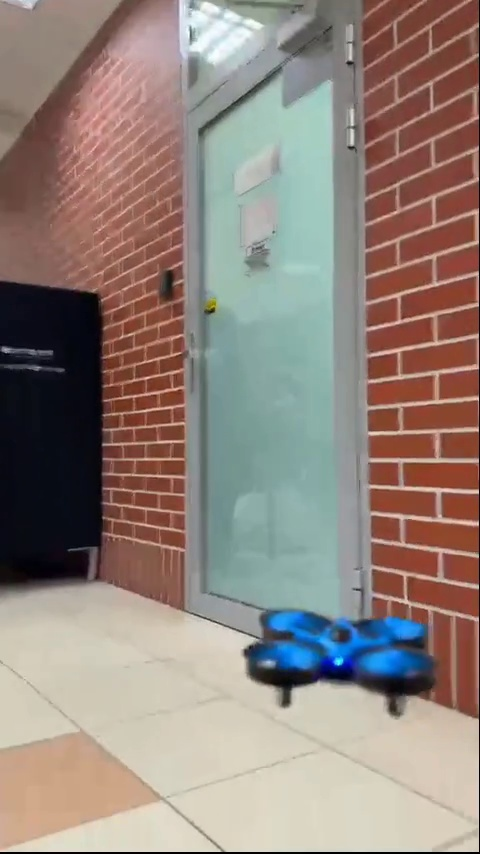drone: (239, 601, 444, 713)
